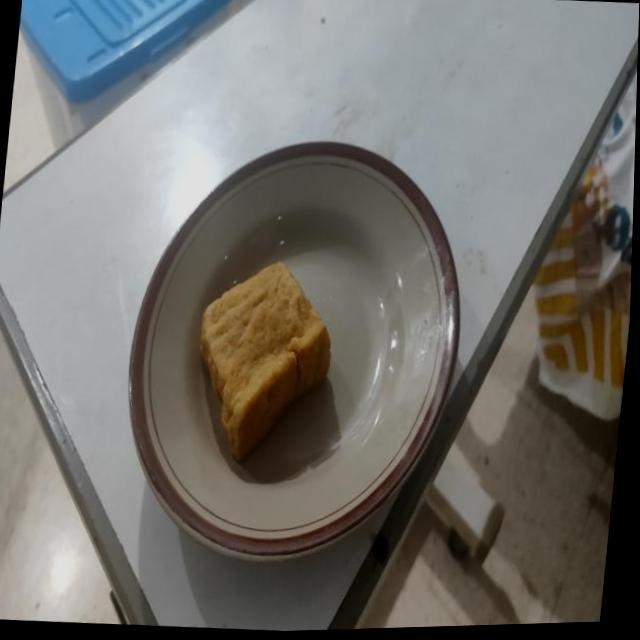tahu_goreng: (200, 262, 330, 460)
